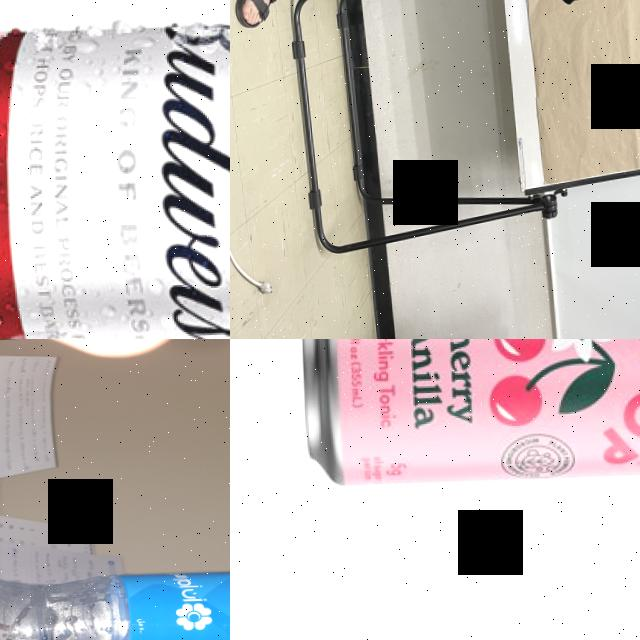bottle: (0, 558, 230, 640)
can: (0, 0, 230, 339), (296, 339, 640, 493)
